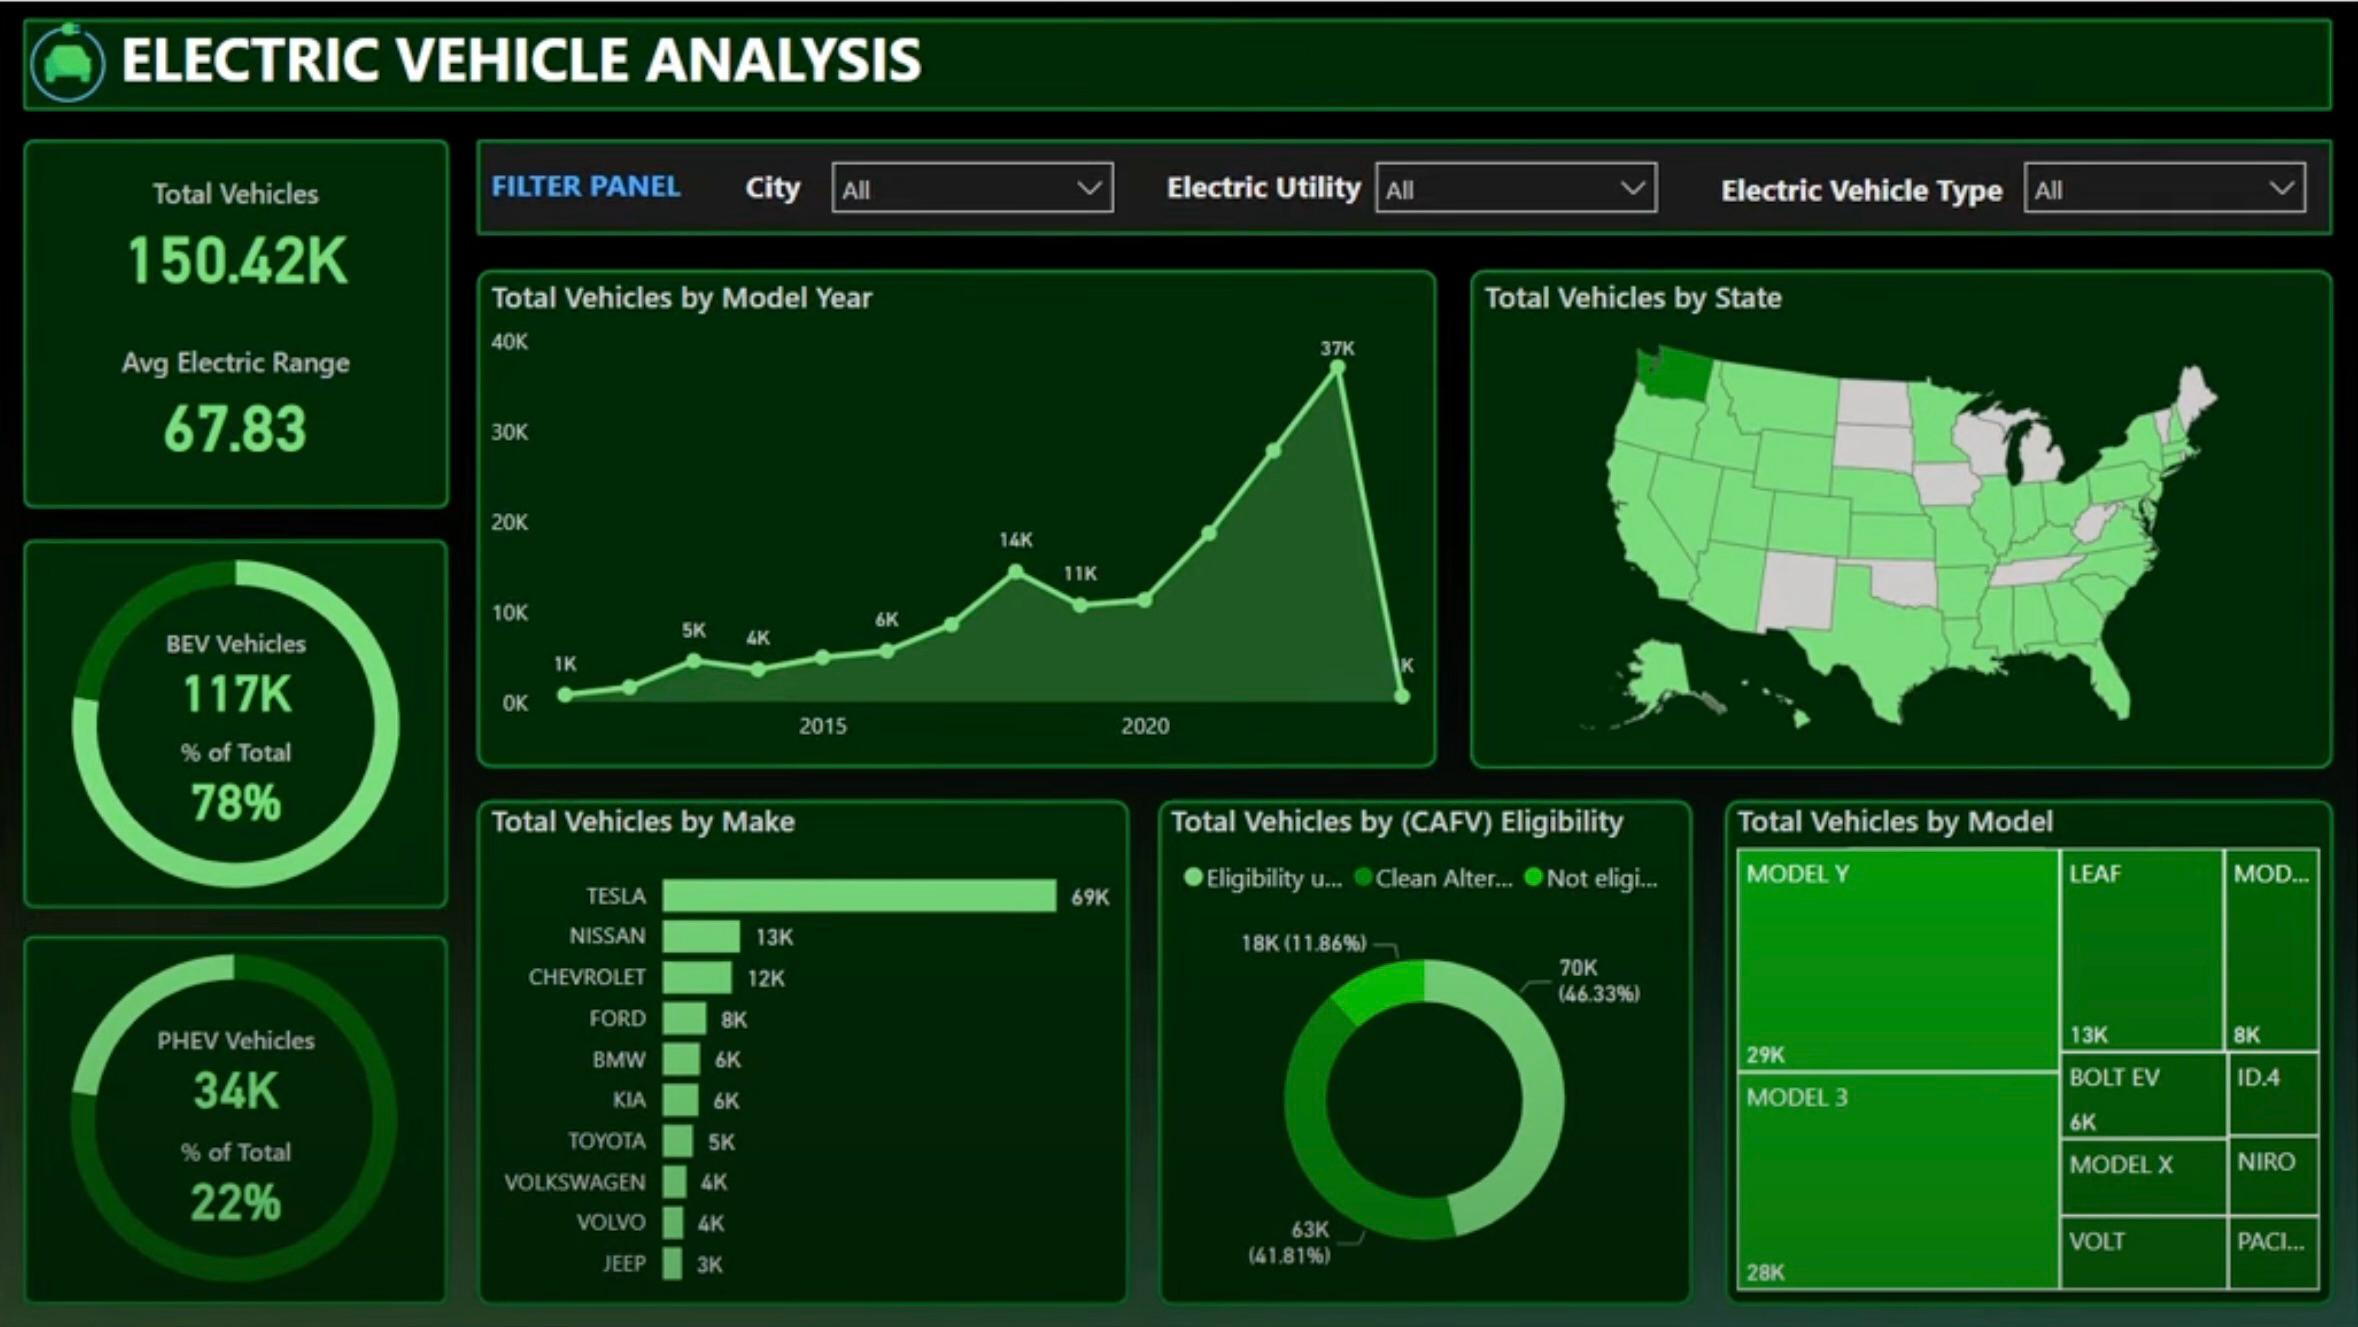

Layout of this report page (visuals, bound fields, positions):
{"tool":"powerbi","page":{"name":"Page 1","canvas":[1280,720],"ordinal":0},"visuals":[{"type":"shape","box":[10,0,1260,50],"z":0},{"type":"shape","box":[10.1,75.2,231.3,199.5],"z":1000},{"type":"card","title":"TOTAL VEHICLES","fields":{"Values":["Electric_Vehicle_Population_Data.Total Vehicles"]},"box":[14.5,95.4,229.9,70.8],"z":2000},{"type":"textbox","box":[0,0,506.7,52.9],"z":2001},{"type":"card","title":"AVG ELECTRIC RANGE","fields":{"Values":["Avg(Electric_Vehicle_Population_Data.Electric Range)"]},"box":[37.6,166.3,174.9,98.3],"z":2002},{"type":"shape","box":[10.1,292,231.3,199.5],"z":2003},{"type":"shape","box":[10.1,504.6,231.3,199.5],"z":2004},{"type":"donutChart","fields":{"Y":["Electric_Vehicle_Population_Data.Total Vehicles"],"Category":["Electric_Vehicle_Population_Data.Electric Vehicle Type"]},"box":[0,273.3,258.8,231.3],"z":2005},{"type":"card","title":"BEV VEHICLES","fields":{"Values":["Electric_Vehicle_Population_Data.Total Vehicles"]},"box":[65.1,335.4,128.7,69.4],"z":2006},{"type":"card","title":"% BEV VEHICLES","fields":{"Values":["Electric_Vehicle_Population_Data.% OF BEV"]},"box":[77.5,392.6,95.1,52.8],"z":2007},{"type":"donutChart","fields":{"Y":["Electric_Vehicle_Population_Data.Total Vehicles"],"Category":["Electric_Vehicle_Population_Data.Electric Vehicle Type"]},"box":[0,489.5,258.8,230.6],"z":2008},{"type":"card","title":"PHEV VEHICLES","fields":{"Values":["Electric_Vehicle_Population_Data.PHEV Vehicles"]},"box":[65.1,551.1,128.5,70.4],"z":2009},{"type":"card","title":"% BEV VEHICLES","fields":{"Values":["Electric_Vehicle_Population_Data.% OF PHEV"]},"box":[77.5,621.5,95.1,52.8],"z":2010},{"type":"shape","box":[258.8,73.9,1021.2,73.9],"z":2011},{"type":"shape","box":[258.8,164.8,510.4,294.9],"z":2012},{"type":"areaChart","fields":{"Category":["Electric_Vehicle_Population_Data.Model Year"],"Y":["Electric_Vehicle_Population_Data.Total Vehicles"]},"box":[277.6,167.7,471.3,279],"z":2013},{"type":"shape","box":[786.5,164.8,484.3,294.9],"z":2014}]}

Visuals, with their boxes in screenshot pixels (x1, y1, x2, y2), scaled from the page's 1280x720 canvas onto the 2358x1327 screenshot:
shape: x1=18 y1=0 x2=2340 y2=92
shape: x1=19 y1=139 x2=445 y2=506
"TOTAL VEHICLES" card: x1=27 y1=176 x2=450 y2=306
textbox: x1=0 y1=0 x2=933 y2=97
"AVG ELECTRIC RANGE" card: x1=69 y1=307 x2=391 y2=488
shape: x1=19 y1=538 x2=445 y2=906
shape: x1=19 y1=930 x2=445 y2=1298
donutChart - Electric_Vehicle_Population_Data.Total Vehicles x Electric_Vehicle_Population_Data.Electric Vehicle Type: x1=0 y1=504 x2=477 y2=930
"BEV VEHICLES" card: x1=120 y1=618 x2=357 y2=746
"% BEV VEHICLES" card: x1=143 y1=724 x2=318 y2=821
donutChart - Electric_Vehicle_Population_Data.Total Vehicles x Electric_Vehicle_Population_Data.Electric Vehicle Type: x1=0 y1=902 x2=477 y2=1326
"PHEV VEHICLES" card: x1=120 y1=1016 x2=357 y2=1145
"% BEV VEHICLES" card: x1=143 y1=1145 x2=318 y2=1243
shape: x1=477 y1=136 x2=2357 y2=272
shape: x1=477 y1=304 x2=1417 y2=847
areaChart - Electric_Vehicle_Population_Data.Model Year x Electric_Vehicle_Population_Data.Total Vehicles: x1=511 y1=309 x2=1380 y2=823
shape: x1=1449 y1=304 x2=2341 y2=847
